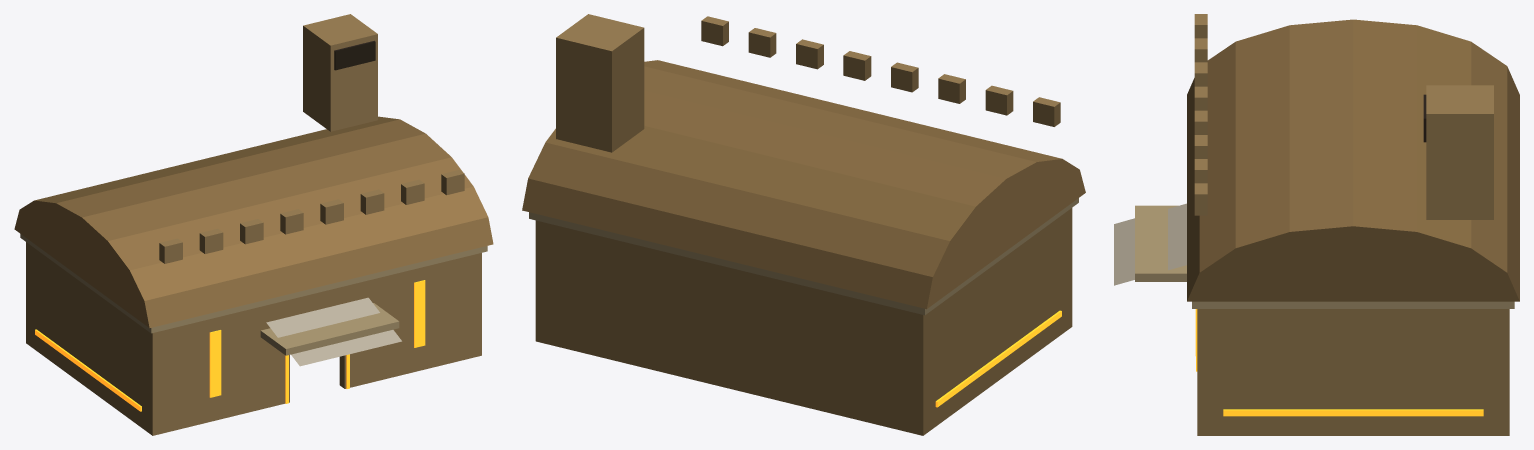
The model's file is shaddai_dist_desert_b3_v01.glb.
The picture shows the model from 3 angles, left to right: view 1: azimuth 30°, elevation 25°; view 2: azimuth 150°, elevation 25°; view 3: azimuth 270°, elevation 25°; orthographic projection. The views are drawn at different scales.
Visible parts, largest first — view 1: shaddai_dist_desert_b3; view 2: shaddai_dist_desert_b3; view 3: shaddai_dist_desert_b3.
Boxes of the visible parts, bbox=[...] form: shaddai_dist_desert_b3: bbox=[14, 14, 493, 435]; shaddai_dist_desert_b3: bbox=[522, 14, 1085, 435]; shaddai_dist_desert_b3: bbox=[1114, 14, 1519, 435].
Size of the model in its own units: 18.8 by 13.38 by 15.6.
